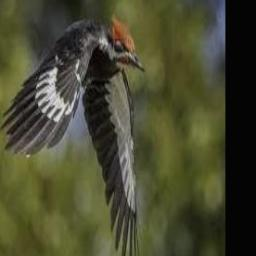Woodpecker: (0, 13, 145, 256)
